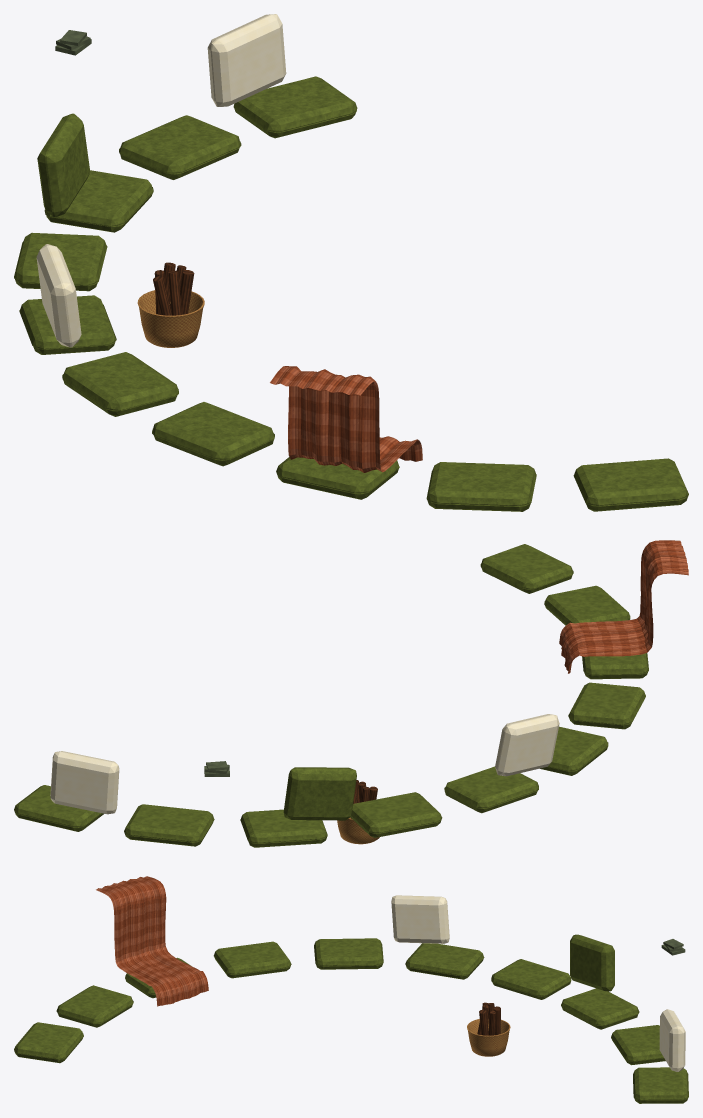
3 renders of one model, top to bottom at view 1: azimuth 30°, elevation 25°; view 2: azimuth 150°, elevation 25°; view 3: azimuth 270°, elevation 25°, orthographic. The views are drawn at different scales.
Parts seen in each view (by area): view 1: Mesh_ThrowBlanket, Mesh_LinenPillow_2, Mesh_MossCushion_1, Mesh_MossCushion_0, Mesh_MossCushion_3, Mesh_MossCushion_8, Mesh_MossCushion_9, Mesh_MossCushion_4, Mesh_MossCushion_7, Mesh_LinenPillow_1, Mesh_MossCushion_6, Mesh_MossCushion_5 (+4 smaller); view 2: Mesh_ThrowBlanket, Mesh_LinenPillow_1, Mesh_LinenPillow_2, Mesh_LinenPillow_0, Mesh_MossCushion_8, Mesh_MossCushion_6, Mesh_MossCushion_0, Mesh_MossCushion_3, Mesh_MossCushion_5, Mesh_MossCushion_7, Mesh_MossCushion_1, Mesh_MossCushion_9 (+3 smaller); view 3: Mesh_ThrowBlanket, Mesh_LinenPillow_0, Mesh_LinenPillow_1, Mesh_MossCushion_3, Mesh_MossCushion_4, Mesh_MossCushion_5, Mesh_MossCushion_6, Mesh_MossCushion_1, Mesh_MossCushion_7, Mesh_MossCushion_0, Mesh_MossCushion_9, Mesh_MossCushion_8 (+3 smaller).
Boxes of the visible parts, x1,y1,x2,y2 form: Mesh_ThrowBlanket: [270, 366, 422, 472]; Mesh_LinenPillow_2: [207, 14, 286, 106]; Mesh_MossCushion_1: [426, 462, 536, 511]; Mesh_MossCushion_0: [573, 458, 688, 511]; Mesh_MossCushion_3: [152, 402, 274, 466]; Mesh_MossCushion_8: [119, 115, 241, 179]; Mesh_MossCushion_9: [233, 76, 357, 138]; Mesh_MossCushion_4: [62, 352, 178, 416]; Mesh_MossCushion_7: [44, 170, 153, 232]; Mesh_LinenPillow_1: [37, 113, 90, 217]; Mesh_MossCushion_6: [14, 232, 107, 291]; Mesh_MossCushion_5: [19, 295, 116, 354]; Mesh_ThrowBlanket: [559, 540, 688, 673]; Mesh_LinenPillow_1: [283, 767, 356, 820]; Mesh_LinenPillow_2: [50, 751, 119, 814]; Mesh_LinenPillow_0: [495, 714, 559, 776]; Mesh_MossCushion_8: [124, 804, 214, 846]; Mesh_MossCushion_6: [350, 792, 442, 837]; Mesh_MossCushion_0: [480, 544, 573, 593]; Mesh_MossCushion_3: [568, 682, 645, 729]; Mesh_MossCushion_5: [444, 766, 538, 813]; Mesh_MossCushion_7: [240, 809, 327, 847]; Mesh_MossCushion_1: [544, 585, 630, 625]; Mesh_MossCushion_9: [14, 785, 104, 831]; Mesh_ThrowBlanket: [96, 876, 208, 1006]; Mesh_LinenPillow_0: [391, 895, 449, 943]; Mesh_LinenPillow_1: [570, 934, 614, 991]; Mesh_MossCushion_3: [213, 941, 291, 978]; Mesh_MossCushion_4: [314, 938, 383, 969]; Mesh_MossCushion_5: [405, 943, 484, 979]; Mesh_MossCushion_6: [491, 959, 571, 999]; Mesh_MossCushion_1: [56, 985, 133, 1027]; Mesh_MossCushion_7: [561, 988, 639, 1029]; Mesh_MossCushion_0: [14, 1022, 83, 1063]; Mesh_MossCushion_9: [633, 1067, 688, 1103]; Mesh_MossCushion_8: [611, 1025, 665, 1065].
Bounding box in the file's own units: 4.2 × 1.59 × 7.56.
6 materials, 6 textured.
